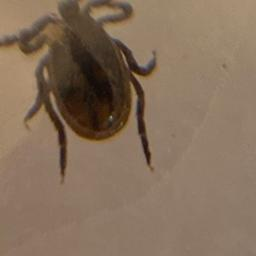Ixodes scapularis: (2, 0, 155, 185)
